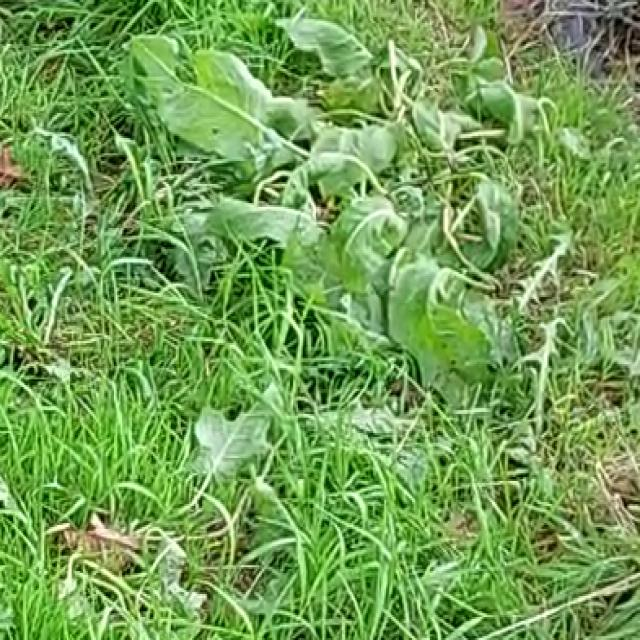organic waste: (140, 37, 572, 380)
